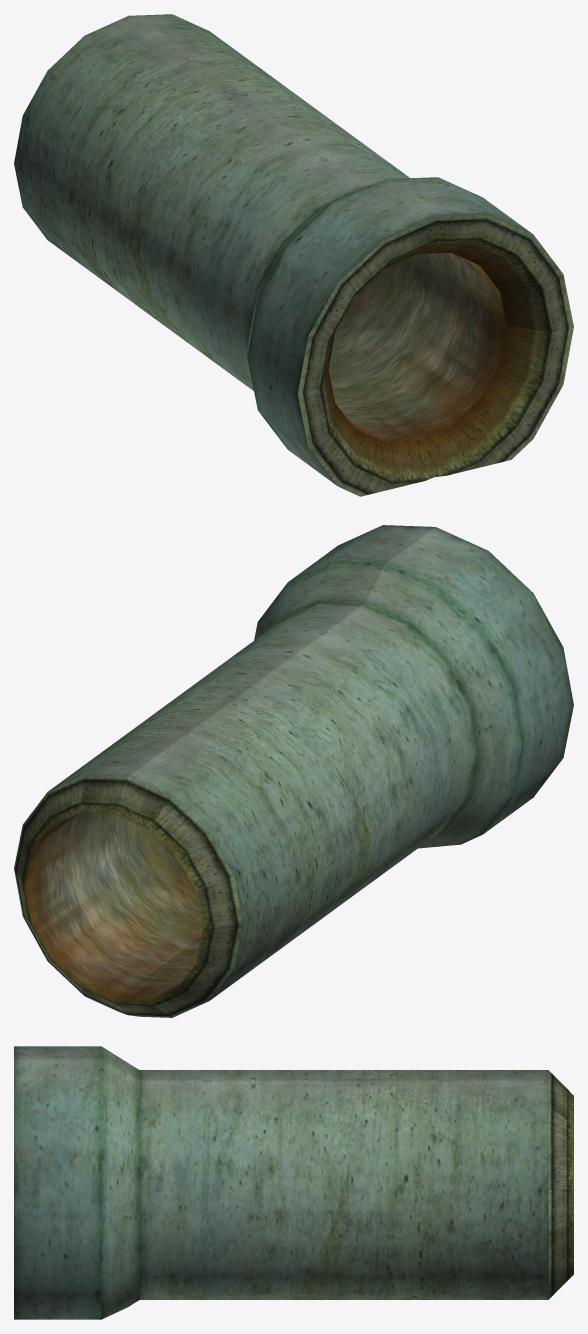
Rendered from pipes_concrete_small.fbx.
3 views of the same model, one above another, from view 1: azimuth 30°, elevation 25°; view 2: azimuth 150°, elevation 25°; view 3: azimuth 270°, elevation 25° (orthographic). The views are drawn at different scales.
Visible parts, largest first — view 1: mesh_0; view 2: mesh_0; view 3: mesh_0.
Part boxes in pixels (left/top/right/bottom): mesh_0: left=14, top=14, right=573, bottom=496; mesh_0: left=14, top=525, right=573, bottom=1017; mesh_0: left=14, top=1046, right=573, bottom=1319.
Bounding box in the file's own units: 121 × 110 × 244.
1 material, 1 textured.
